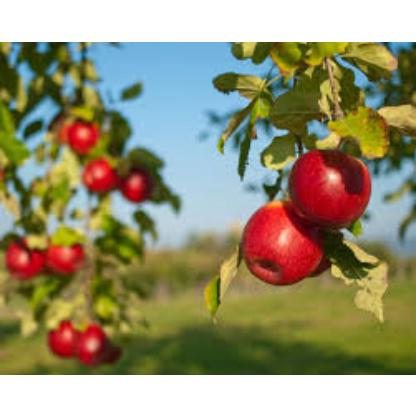apple: (246, 200, 328, 278), (294, 150, 372, 222), (84, 316, 116, 364), (40, 322, 84, 356), (8, 238, 44, 278), (48, 240, 88, 274), (121, 168, 154, 199), (70, 118, 100, 147), (86, 162, 112, 188)
